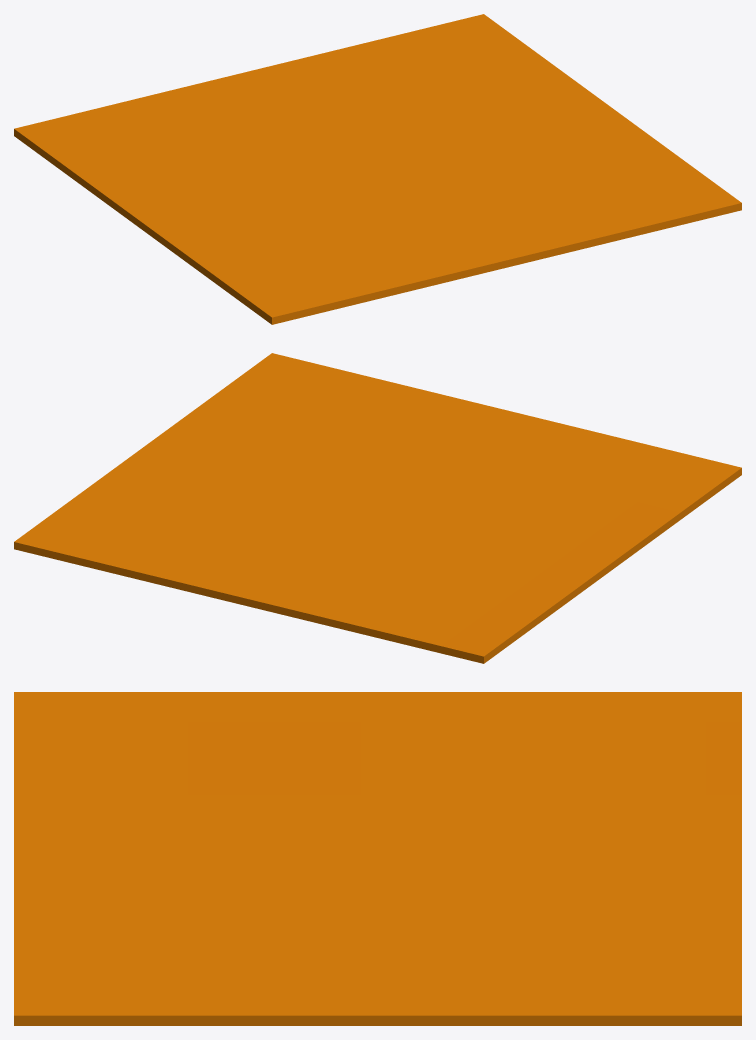
File: R_02_Roof_01.fbx
The picture shows the model from 3 angles, top to bottom: view 1: azimuth 30°, elevation 25°; view 2: azimuth 150°, elevation 25°; view 3: azimuth 270°, elevation 25°; orthographic projection. The views are drawn at different scales.
Visible parts, largest first — view 1: R_02_Roof_01; view 2: R_02_Roof_01; view 3: R_02_Roof_01.
Part boxes in pixels (x1,y1,x2,y2): R_02_Roof_01: (14,14,741,324); R_02_Roof_01: (14,353,741,663); R_02_Roof_01: (14,692,741,1025).
Bounding box in the file's own units: 1321 × 19.89 × 1257.
